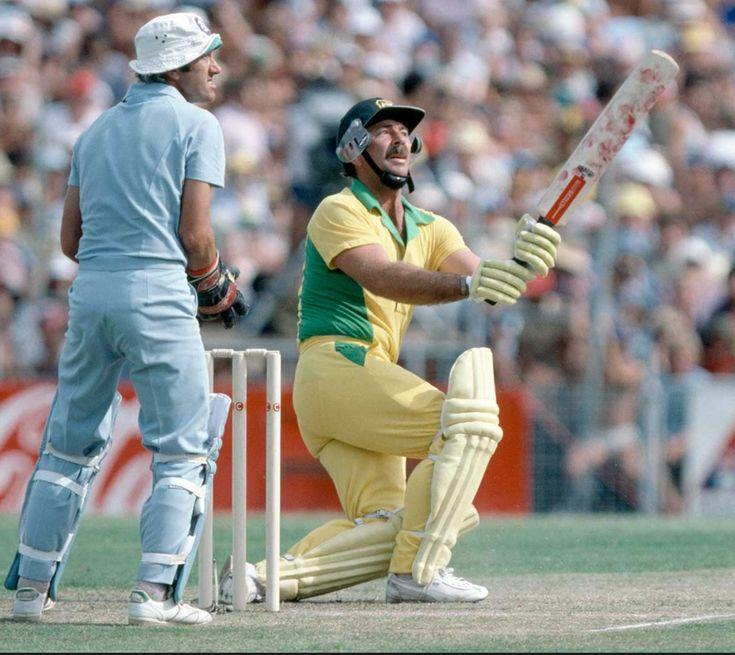batsman: (288, 80, 526, 594)
